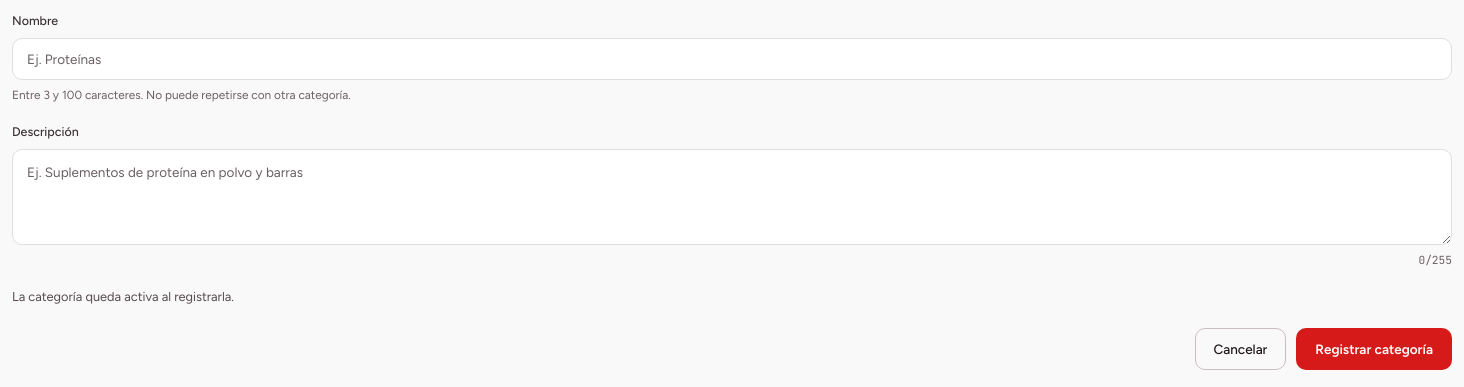
Scenario: CreateCategoryForm › limits the description to 255 characters and counts them
Type "Barras" into the text box labelled "Descripción" at (732, 197), box x1=12 y1=149 x2=1452 y2=245
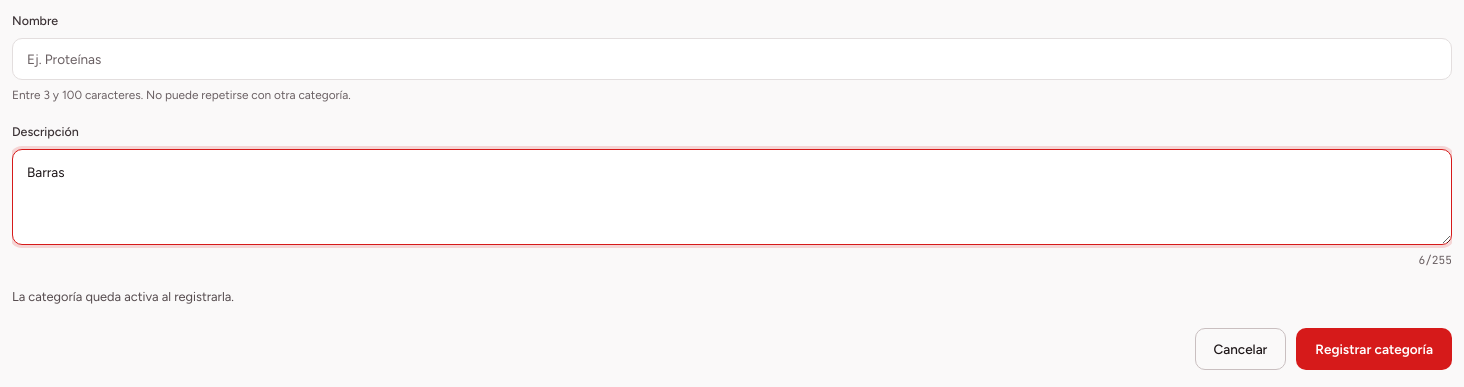
Expected: the text "6/255" is shown, x1=1418 y1=252 x2=1452 y2=269
